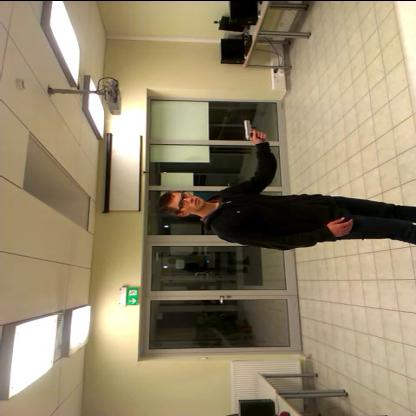Pistol: (232, 112, 280, 145)
